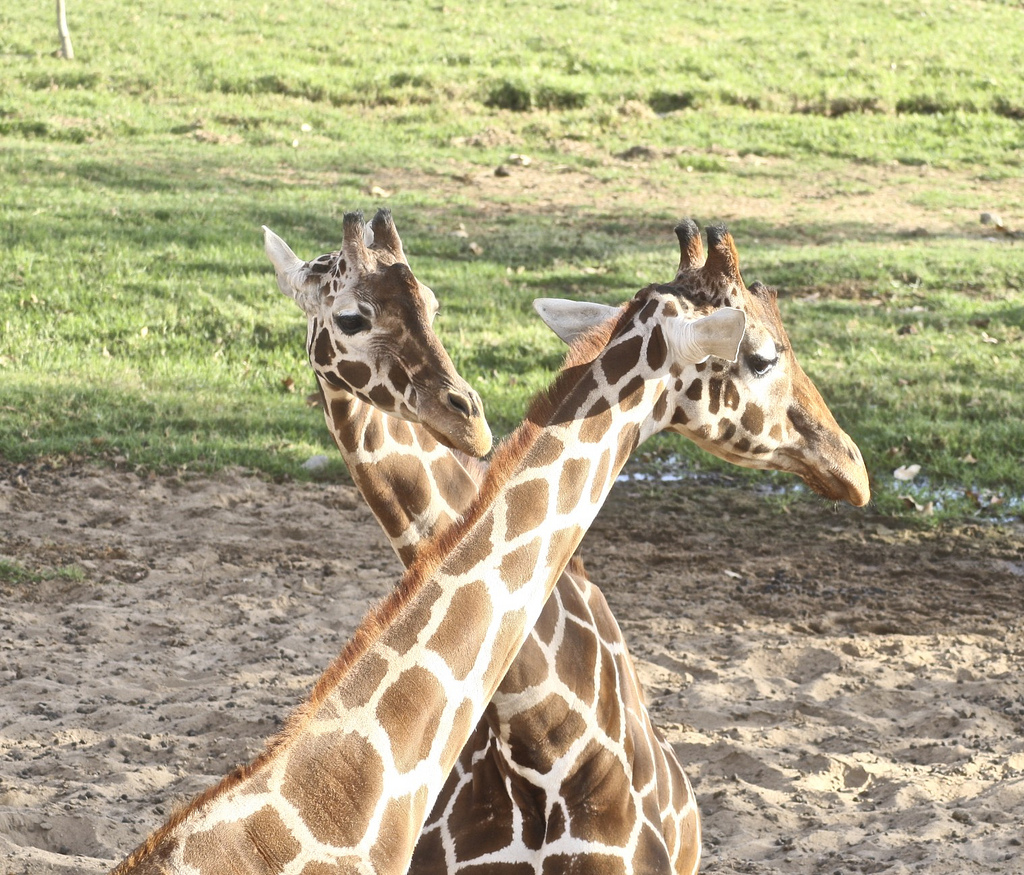giraffe: (191, 206, 829, 857), (250, 202, 672, 869)
